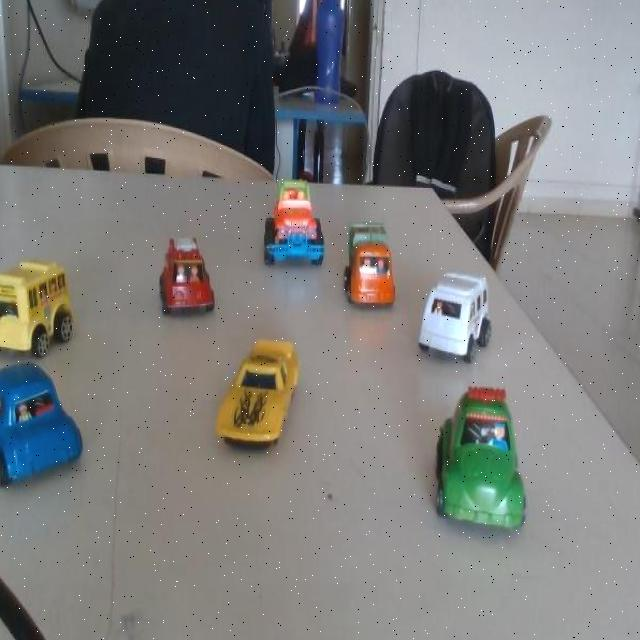car: (381, 341, 610, 615), (178, 326, 352, 484), (404, 252, 513, 387), (0, 364, 81, 484), (244, 163, 330, 274), (0, 263, 87, 364), (338, 203, 407, 324), (158, 232, 224, 329)
